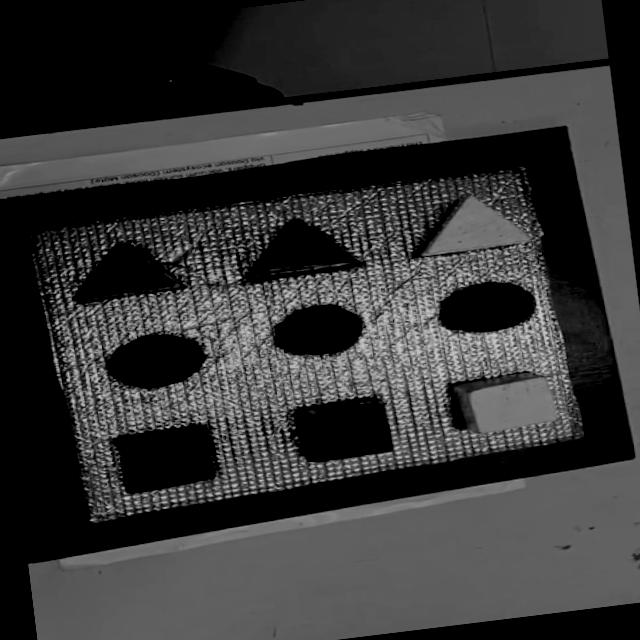bcube: (114, 426, 220, 496)
btriangle: (64, 234, 188, 306)
mtcircle: (101, 327, 211, 394), (430, 276, 539, 340), (268, 300, 368, 362)
rcube: (294, 397, 394, 464)
rtriangle: (238, 212, 360, 281)
wb: (28, 158, 590, 522)
ycube: (455, 368, 562, 437)
ytriangle: (404, 185, 536, 259)
